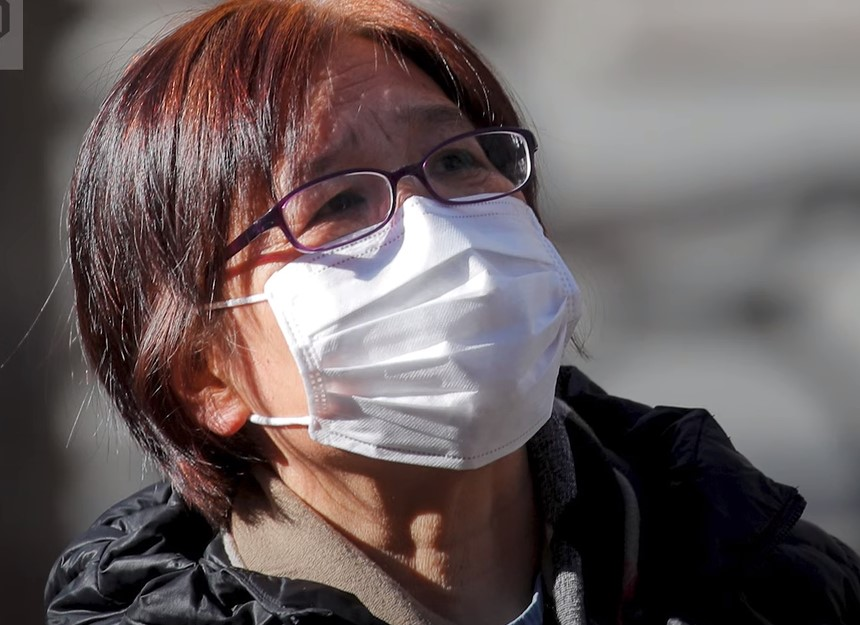face_with_mask: (71, 0, 587, 476)
